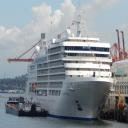cruises: (23, 3, 117, 124)
